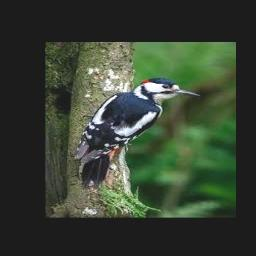Woodpecker: (74, 78, 200, 190)
